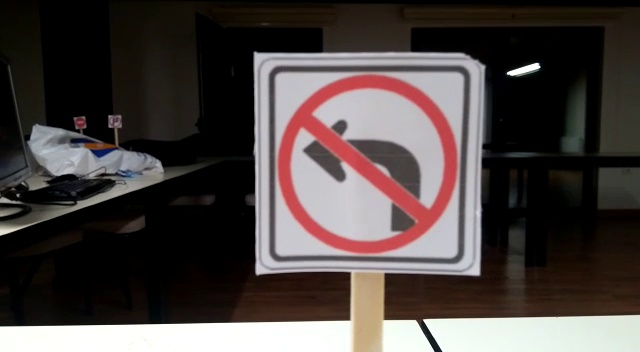sola_donulmez: (261, 57, 468, 274)
